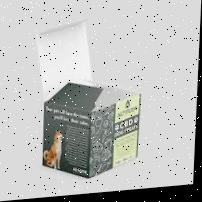cube: (41, 87, 144, 184)
